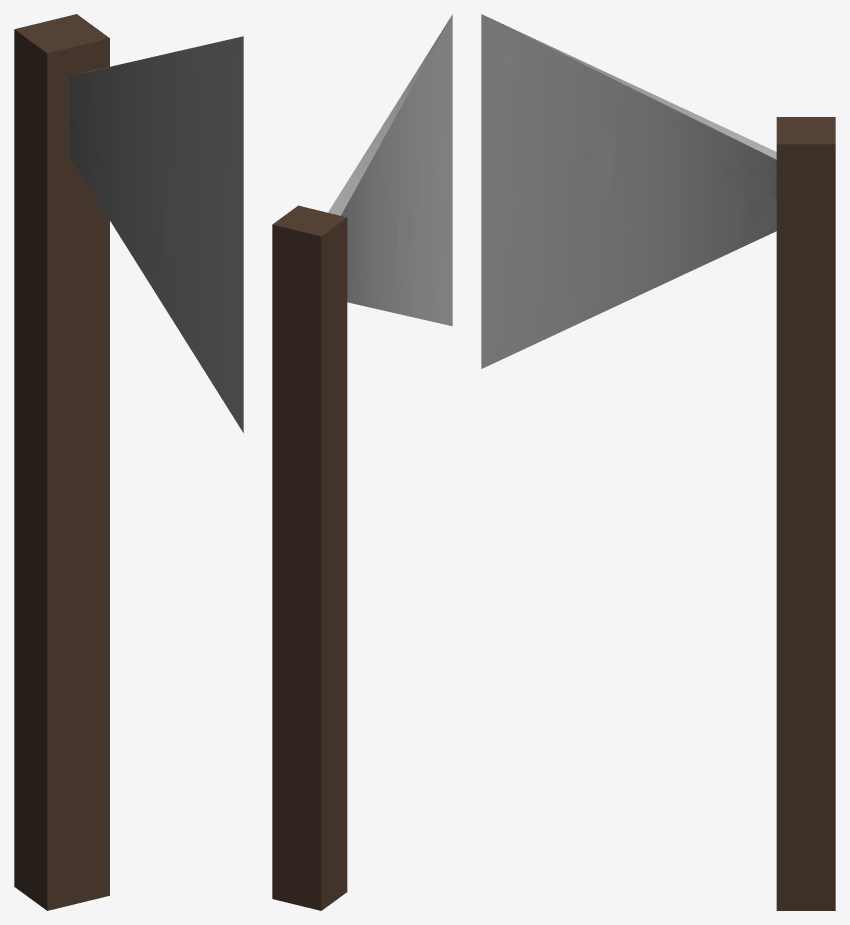
File: Axe.fbx
3 renders of one model, left to right at view 1: azimuth 30°, elevation 25°; view 2: azimuth 150°, elevation 25°; view 3: azimuth 270°, elevation 25°, orthographic. The views are drawn at different scales.
Parts seen in each view (by area): view 1: Axe_1; view 2: Axe_1; view 3: Axe_1.
Part boxes in pixels (left/top/right/bottom): Axe_1: left=14, top=14, right=243, bottom=910; Axe_1: left=272, top=14, right=452, bottom=910; Axe_1: left=481, top=14, right=835, bottom=910.
Size of the model in its own units: 4.09 by 61.82 by 22.46.
